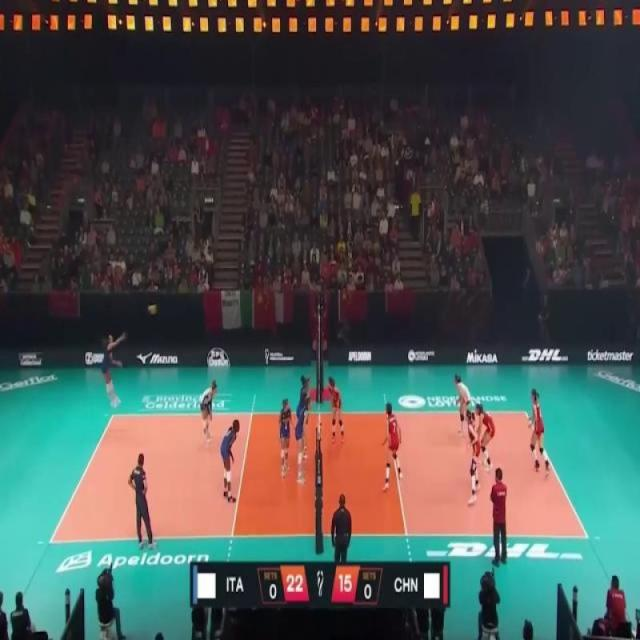volleyball: (148, 304, 158, 316)
